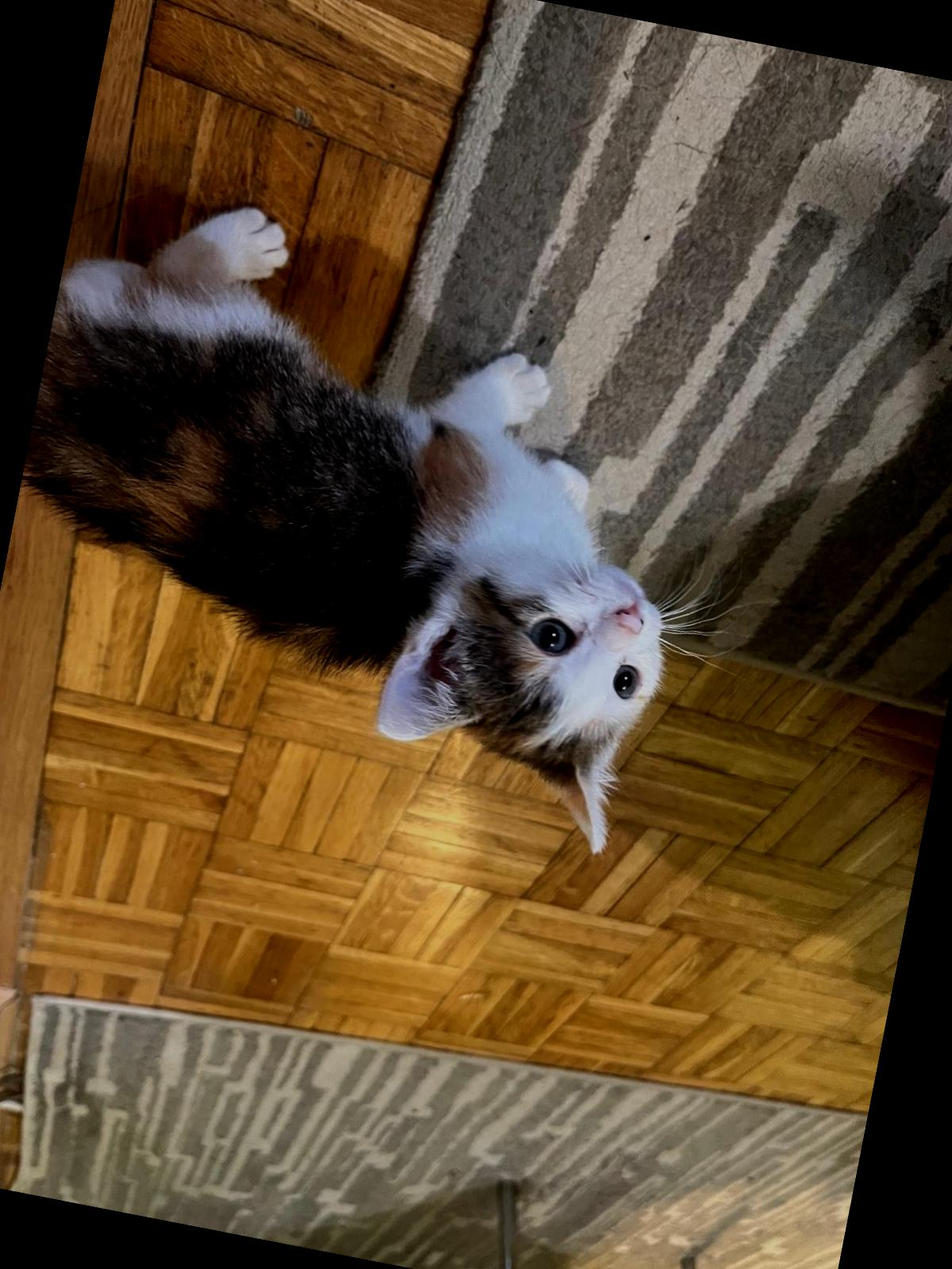macka: (0, 174, 736, 863)
